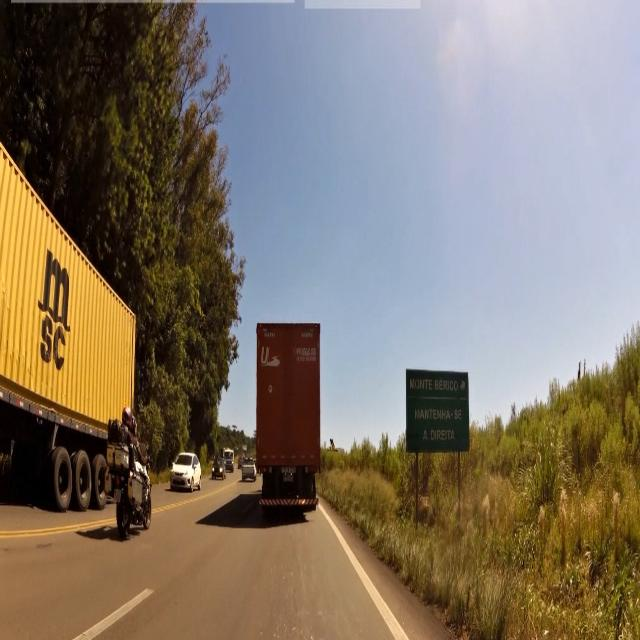I-4: (406, 369, 468, 450)
